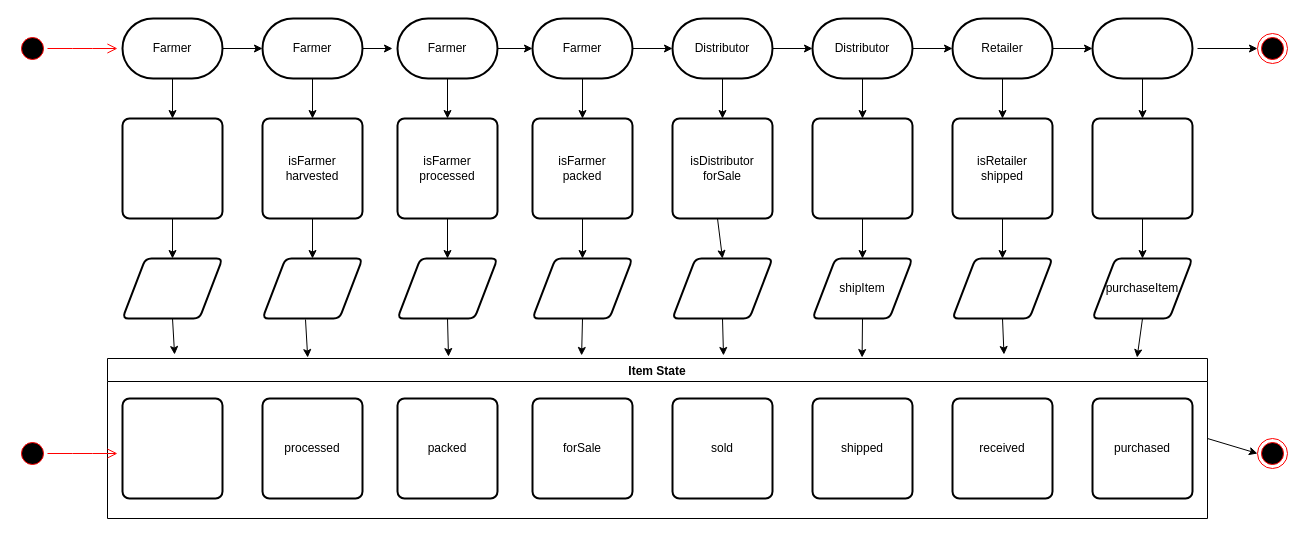
Image size: 1305x536. Some labels were removed from this diagram. The shapes that lost their labels are listed below. From the top down, each one's centre as x and y in pixels, then its label:
At pixel 1142 48: "Consumer".
At pixel 172 168: "isFarmer".
At pixel 862 168: "isDistributor sold".
At pixel 1142 168: "isConsumer processed".
At pixel 172 288: "harvestItem".
At pixel 312 288: "processItem".
At pixel 447 288: "packItem".
At pixel 582 288: "sellItem".
At pixel 722 288: "buyItem".
At pixel 1002 288: "receiveItem".
At pixel 172 448: "harvested".
